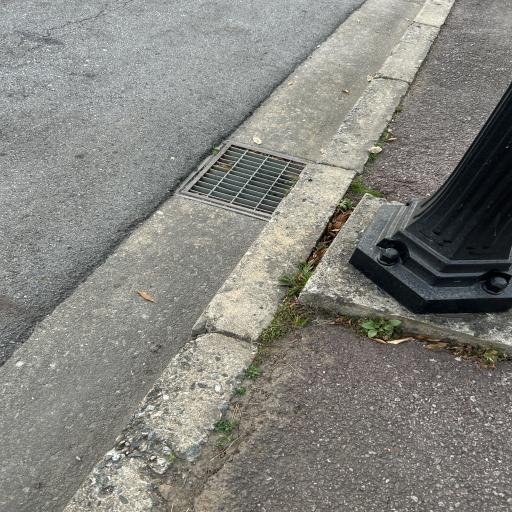drain: (182, 142, 305, 219)
